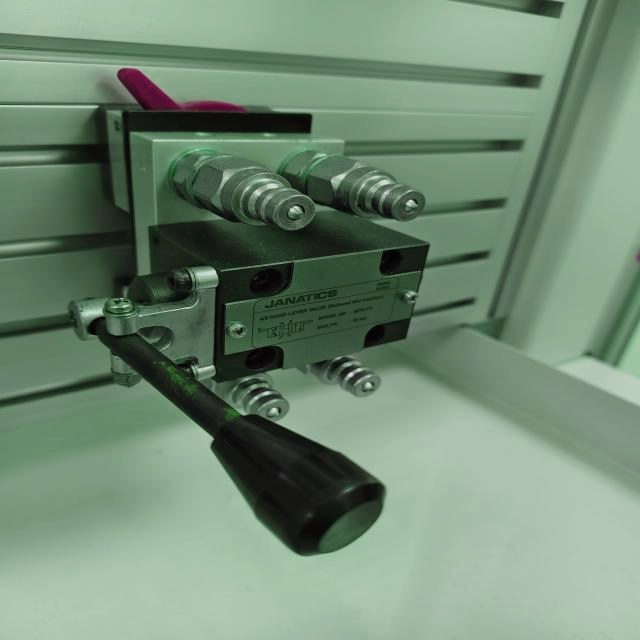4by3 hand lever valve: (65, 59, 440, 559)
